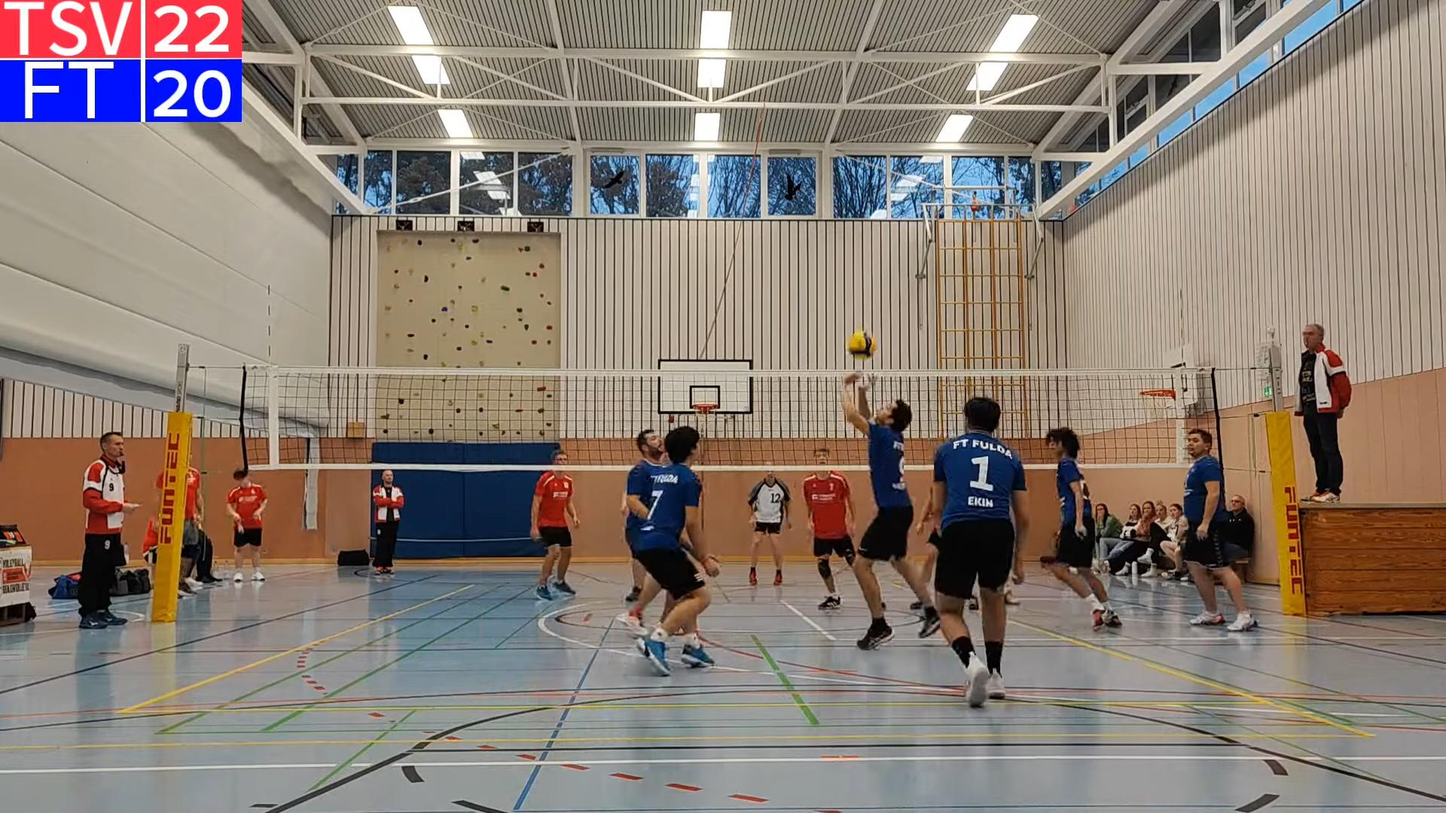Player: (932, 397, 1027, 707), (628, 426, 718, 674), (1041, 428, 1121, 629), (1183, 429, 1257, 631), (802, 446, 855, 610), (531, 449, 579, 600), (748, 470, 790, 586), (617, 557, 660, 637), (914, 489, 941, 583), (914, 487, 940, 583)
Set: (830, 367, 944, 657)
ball: (850, 333, 879, 355)
